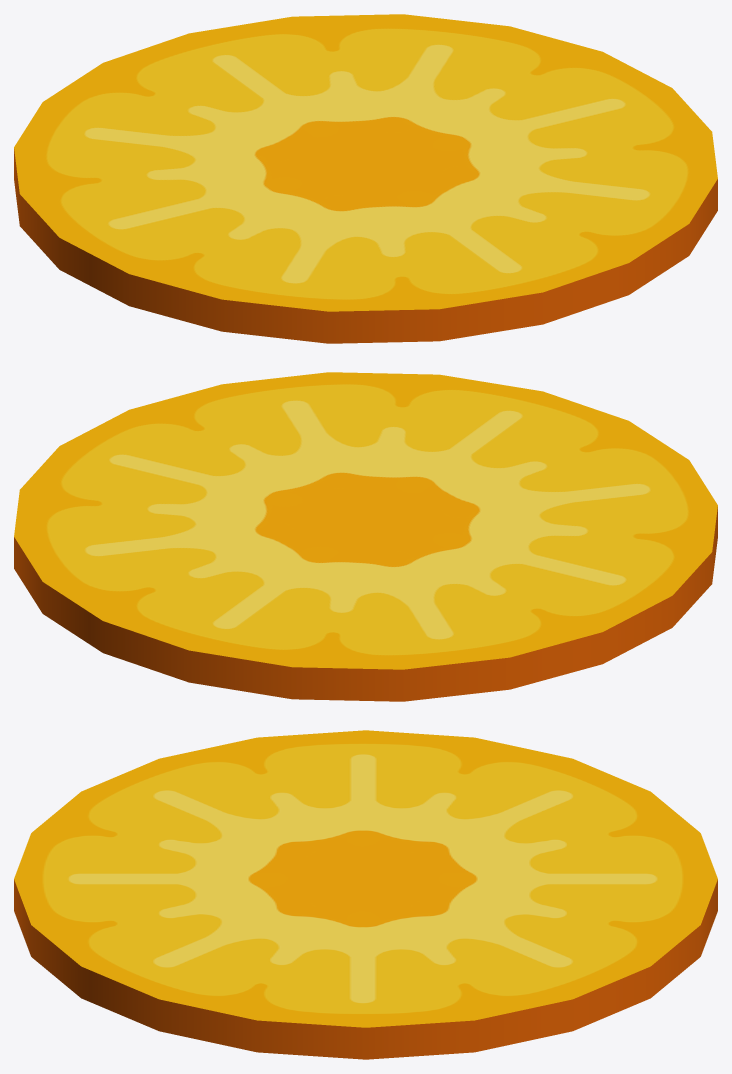
File: Pineapple_Slice.glb
3 views of the same model, one above another, from view 1: azimuth 30°, elevation 25°; view 2: azimuth 150°, elevation 25°; view 3: azimuth 270°, elevation 25° (orthographic).
Parts seen in each view (by area): view 1: Pineapple_Slice; view 2: Pineapple_Slice; view 3: Pineapple_Slice.
Boxes of the visible parts, left/top/right/bottom form: Pineapple_Slice: left=14, top=14, right=717, bottom=343; Pineapple_Slice: left=14, top=372, right=717, bottom=701; Pineapple_Slice: left=14, top=730, right=717, bottom=1059.
Bounding box in the file's own units: 20 × 1 × 20.
1 material, 1 textured.
